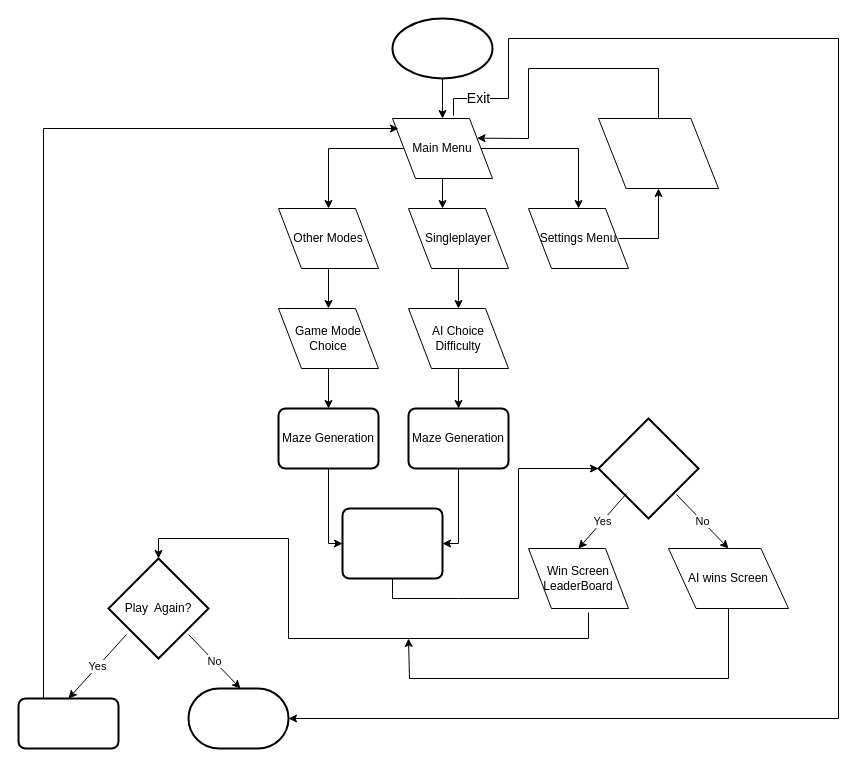
The diagram is 864 pixels wide and 766 high, and some of its shapes have lost their labels. Here are the shapes that lost their labels. From the top down, the centre of each, then its label:
(442,48): Start
(658,153): Change Size Fullscreen Input Method
(648,468): Player Win?
(392,543): Gameplay Loop
(68,723): Replay
(238,718): End
